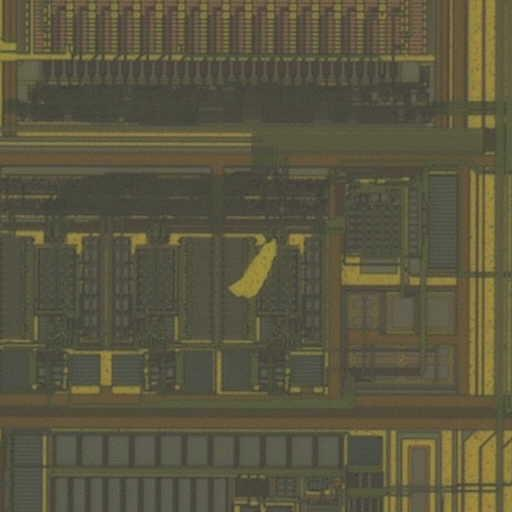BLOCK ETCH: (224, 233, 286, 305)
